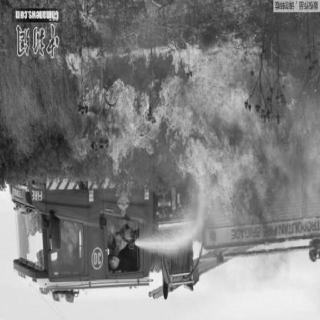Fire: (54, 38, 316, 206), (77, 6, 101, 32)
